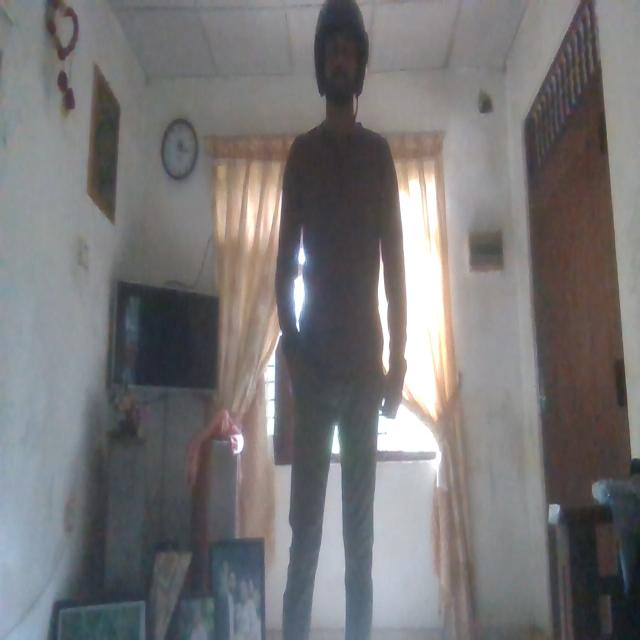Helmet_Wearer: (312, 0, 368, 124)
Person: (278, 10, 408, 640)
